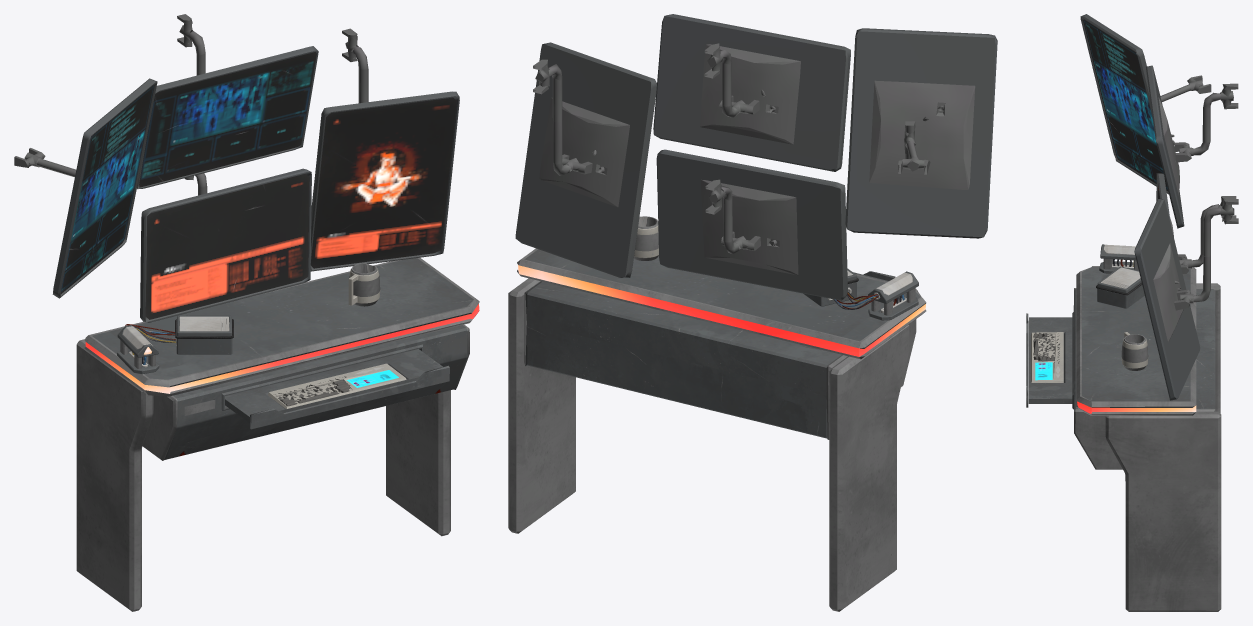
File: SM_Monitors_2.FBX
3 renders of one model, left to right at view 1: azimuth 30°, elevation 25°; view 2: azimuth 150°, elevation 25°; view 3: azimuth 270°, elevation 25°, orthographic. The views are drawn at different scales.
Parts seen in each view (by area): view 1: SM_Monitors_2; view 2: SM_Monitors_2; view 3: SM_Monitors_2.
Part boxes in pixels (bbox=[...]): SM_Monitors_2: bbox=[14, 14, 479, 611]; SM_Monitors_2: bbox=[508, 14, 997, 611]; SM_Monitors_2: bbox=[1026, 14, 1238, 611].
Size of the model in its own units: 182 by 93.42 by 215.
Materials: 6 (6 with a texture image).
